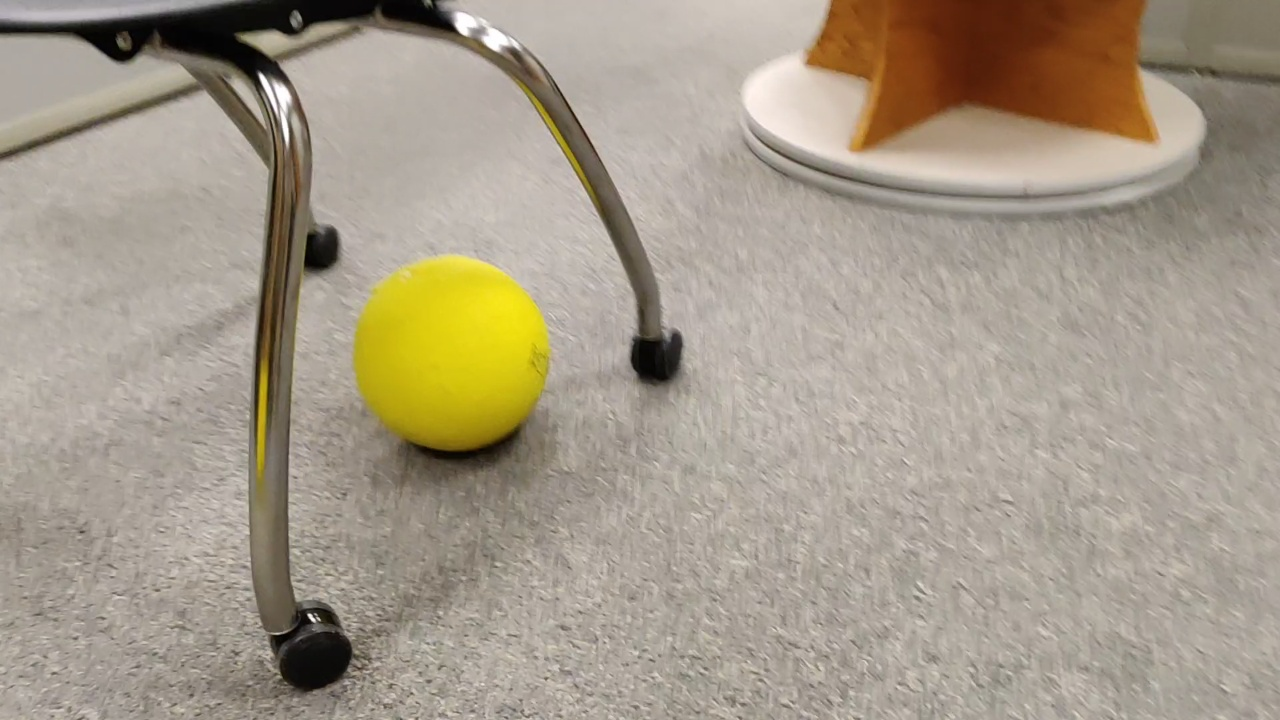Ball: (344, 254, 551, 462)
